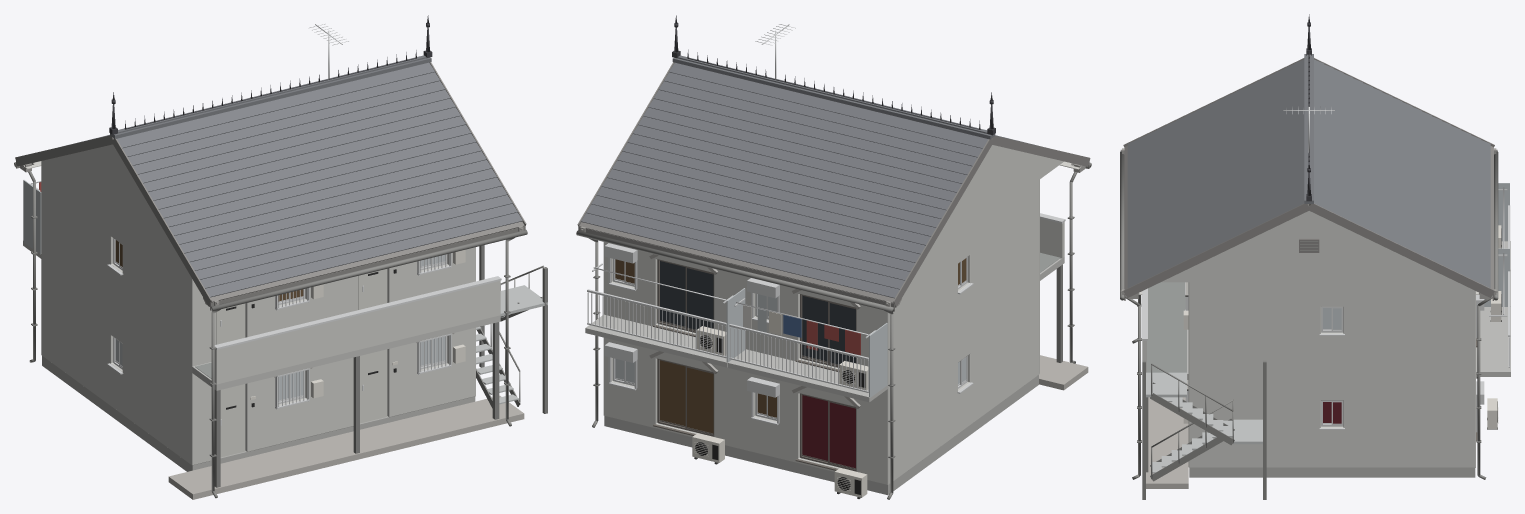
Rendered from blk_outer1_0_1.glb.
3 renders of one model, left to right at view 1: azimuth 30°, elevation 25°; view 2: azimuth 150°, elevation 25°; view 3: azimuth 270°, elevation 25°, orthographic. The views are drawn at different scales.
Visible parts, largest first — view 1: blk_outer1_0_1; view 2: blk_outer1_0_1; view 3: blk_outer1_0_1.
Part boxes in pixels (x1,y1,x2,y2): blk_outer1_0_1: [14, 15, 547, 499]; blk_outer1_0_1: [576, 15, 1091, 499]; blk_outer1_0_1: [1120, 14, 1510, 499].
Size of the model in its own units: 10.53 by 9.89 by 10.55.
